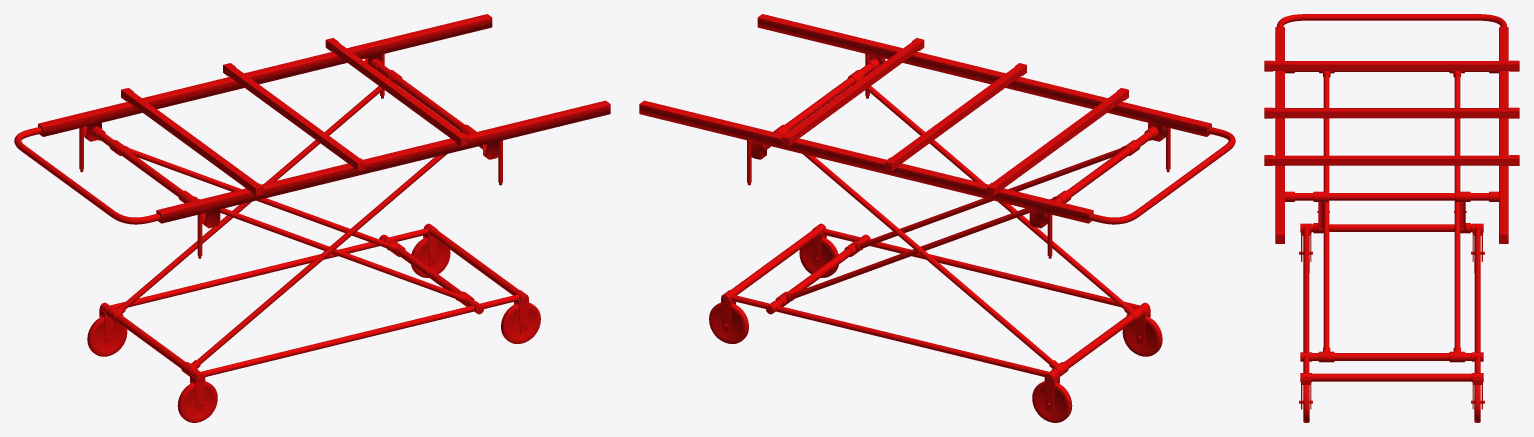
Rendered from Wheelchairs_1.fbx.
3 views of the same model, side by side, from view 1: azimuth 30°, elevation 25°; view 2: azimuth 150°, elevation 25°; view 3: azimuth 270°, elevation 25° (orthographic). The views are drawn at different scales.
Parts seen in each view (by area): view 1: polySurface11; view 2: polySurface11; view 3: polySurface11.
Part boxes in pixels (x1=…): polySurface11: x1=14, y1=14, x2=610, y2=422; polySurface11: x1=639, y1=14, x2=1235, y2=422; polySurface11: x1=1264, y1=14, x2=1519, y2=422.
Bounding box in the file's own units: 158 × 75.14 × 76.32.
